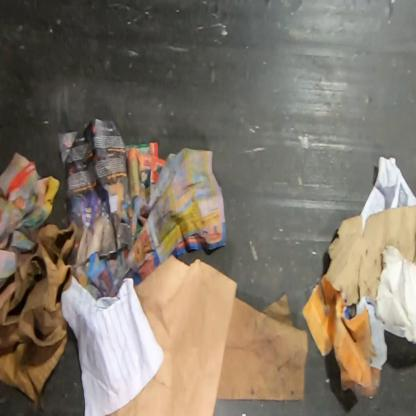cardboard: (101, 253, 239, 415), (0, 220, 79, 408), (300, 276, 382, 399), (324, 204, 415, 307)
